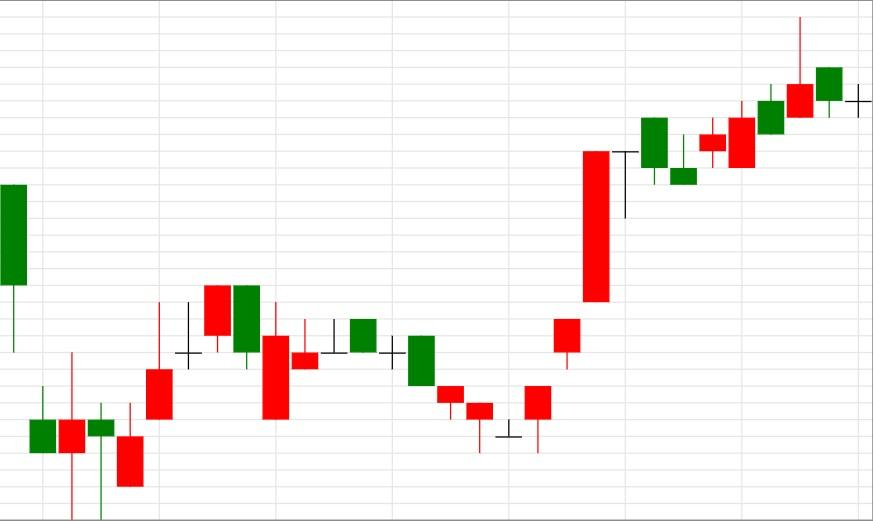bearish_engulfing_fall: (58, 284, 261, 520)
three_white_soldiers_rise: (348, 149, 611, 454)
